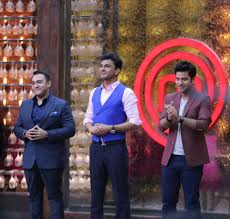Bad: (83, 53, 211, 219), (14, 53, 139, 219)
